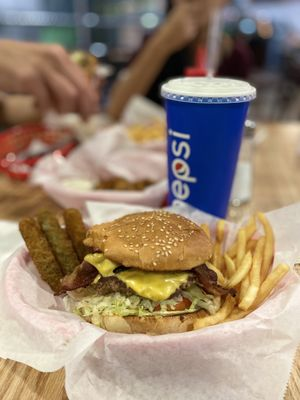pizza: (160, 75, 257, 221)
soup: (43, 208, 288, 334)
